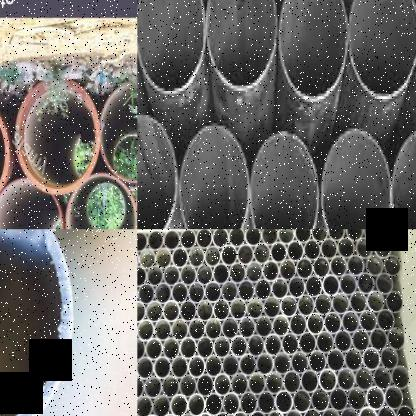pipe: (0, 229, 73, 416), (15, 79, 100, 195), (317, 126, 395, 229), (176, 121, 249, 229), (275, 0, 349, 104), (245, 131, 321, 229), (344, 0, 416, 100), (204, 0, 278, 92), (137, 0, 207, 95), (137, 112, 180, 229), (65, 173, 137, 229), (100, 83, 137, 182), (0, 179, 65, 229), (387, 125, 416, 229), (292, 390, 312, 414), (384, 386, 404, 410), (336, 368, 356, 392), (341, 310, 360, 334), (204, 354, 223, 378), (221, 354, 240, 378), (344, 348, 363, 372), (330, 388, 348, 413), (348, 387, 366, 412), (366, 386, 384, 411), (154, 318, 172, 342), (255, 314, 273, 338), (306, 312, 324, 336), (359, 310, 377, 334), (367, 290, 385, 314), (205, 392, 223, 416), (222, 392, 240, 416), (240, 392, 258, 416), (257, 391, 275, 415), (274, 390, 292, 414), (311, 388, 329, 412), (144, 375, 162, 399), (162, 374, 180, 398), (179, 374, 197, 398), (214, 373, 232, 397), (231, 372, 249, 396), (248, 372, 266, 396), (265, 371, 283, 395), (284, 370, 302, 394), (300, 369, 318, 393), (318, 368, 336, 392), (355, 367, 373, 391), (373, 366, 391, 390), (392, 366, 410, 390), (153, 356, 171, 380), (256, 352, 274, 376), (308, 350, 326, 374), (326, 349, 344, 373), (362, 347, 380, 371), (380, 346, 398, 370), (281, 332, 299, 356), (370, 328, 388, 352), (290, 352, 309, 374), (188, 318, 206, 341), (238, 316, 256, 339), (272, 314, 290, 337), (376, 309, 394, 332), (162, 300, 180, 323), (263, 296, 281, 319), (297, 295, 315, 318), (332, 292, 350, 315), (350, 291, 368, 314), (254, 279, 272, 302), (339, 273, 357, 296), (330, 255, 348, 278), (187, 393, 205, 416), (273, 352, 291, 375), (145, 338, 163, 361), (180, 337, 198, 360), (213, 336, 231, 359), (264, 334, 282, 357), (298, 332, 316, 355), (334, 330, 352, 353), (146, 300, 163, 324), (288, 276, 305, 300), (197, 374, 214, 398), (197, 336, 214, 360), (289, 314, 307, 336), (324, 312, 342, 334), (280, 296, 298, 318), (314, 294, 332, 316), (386, 292, 404, 314), (154, 283, 172, 305), (306, 274, 324, 296), (322, 274, 340, 296), (375, 273, 393, 295), (357, 272, 375, 294), (146, 265, 164, 287), (212, 263, 230, 285), (384, 255, 402, 277), (347, 255, 365, 277), (366, 255, 384, 277), (320, 238, 338, 260), (356, 238, 374, 260), (338, 238, 356, 260), (374, 238, 392, 260), (188, 356, 206, 378), (239, 354, 257, 376), (162, 338, 180, 360), (316, 332, 334, 354), (352, 330, 370, 352), (388, 328, 406, 350), (171, 318, 188, 341), (230, 298, 247, 321), (204, 245, 221, 268), (171, 356, 188, 379), (152, 395, 170, 416), (205, 318, 222, 340), (180, 300, 197, 322), (197, 300, 214, 322), (247, 298, 264, 320), (138, 283, 155, 305), (171, 282, 188, 304), (188, 282, 205, 304), (204, 282, 221, 304), (221, 281, 238, 303), (238, 280, 255, 302), (271, 278, 288, 300), (163, 264, 180, 286), (180, 264, 197, 286), (196, 264, 213, 286), (262, 260, 279, 282), (296, 258, 313, 280), (313, 256, 330, 278), (139, 248, 156, 270), (155, 247, 172, 269), (171, 247, 188, 269), (188, 246, 205, 268), (237, 244, 254, 266), (270, 242, 287, 264), (287, 240, 304, 262), (170, 394, 187, 416), (230, 336, 247, 358), (138, 319, 154, 342), (222, 317, 238, 340), (214, 299, 230, 322), (138, 356, 154, 379), (248, 335, 264, 358), (230, 262, 246, 284), (246, 261, 262, 283), (280, 259, 296, 281), (221, 244, 237, 266), (254, 243, 270, 265), (304, 240, 320, 262), (148, 230, 164, 252), (195, 230, 212, 250), (164, 230, 180, 251), (180, 230, 196, 250), (228, 230, 245, 248), (138, 395, 152, 416), (212, 230, 228, 248), (260, 230, 278, 246), (245, 230, 262, 246), (277, 230, 294, 244), (294, 230, 311, 244), (380, 230, 398, 242), (396, 405, 415, 416), (327, 230, 344, 242), (138, 232, 148, 252), (376, 406, 396, 416), (311, 230, 327, 242), (364, 230, 380, 242), (346, 230, 362, 242), (138, 338, 146, 362), (358, 406, 376, 416), (138, 301, 146, 323), (138, 376, 145, 400), (321, 407, 339, 416), (340, 407, 358, 416), (138, 266, 146, 286), (303, 408, 321, 416), (284, 409, 303, 416), (248, 410, 266, 416), (266, 410, 284, 416), (232, 411, 250, 416), (196, 412, 214, 416), (213, 412, 231, 416), (178, 413, 196, 416), (142, 414, 160, 416), (160, 414, 178, 416)
